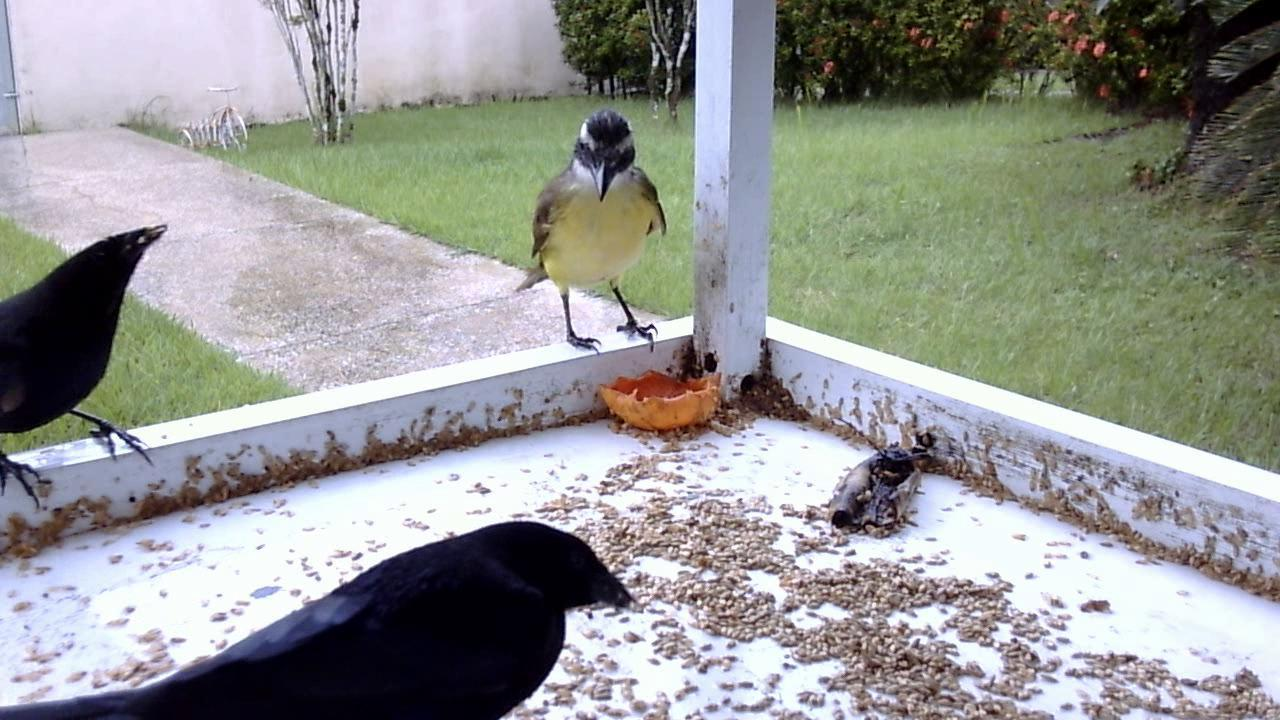bem_te_vi: (515, 103, 671, 367)
chupim: (15, 513, 647, 712), (1, 222, 181, 513)
